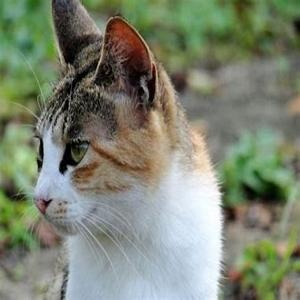cat: (15, 17, 219, 233)
